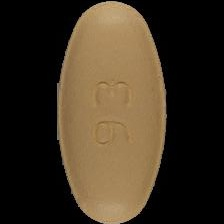63629-1284: (0, 0, 224, 224)
